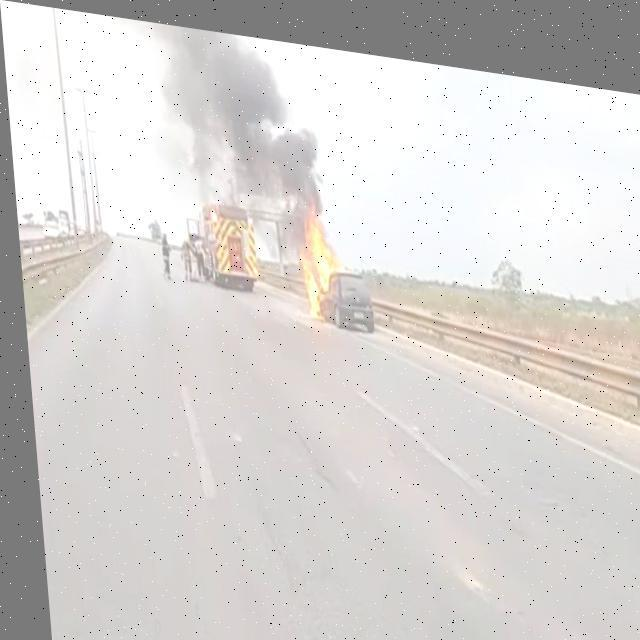Fire: (291, 202, 343, 320)
